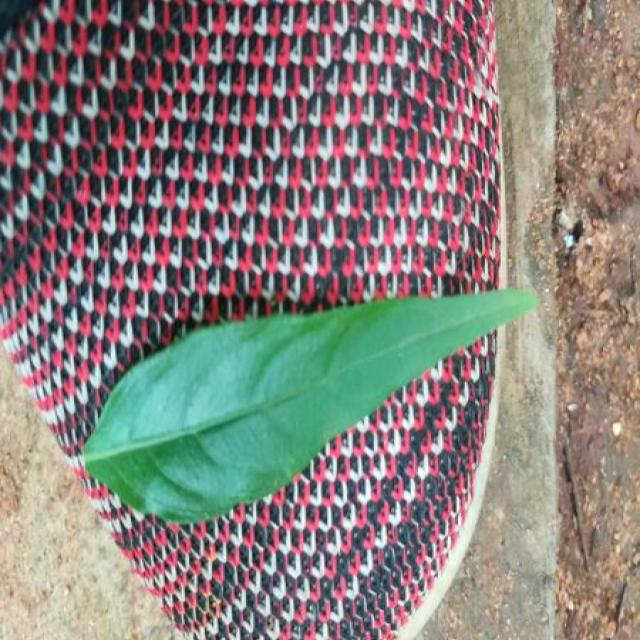Nelavembu: (83, 290, 537, 523)
